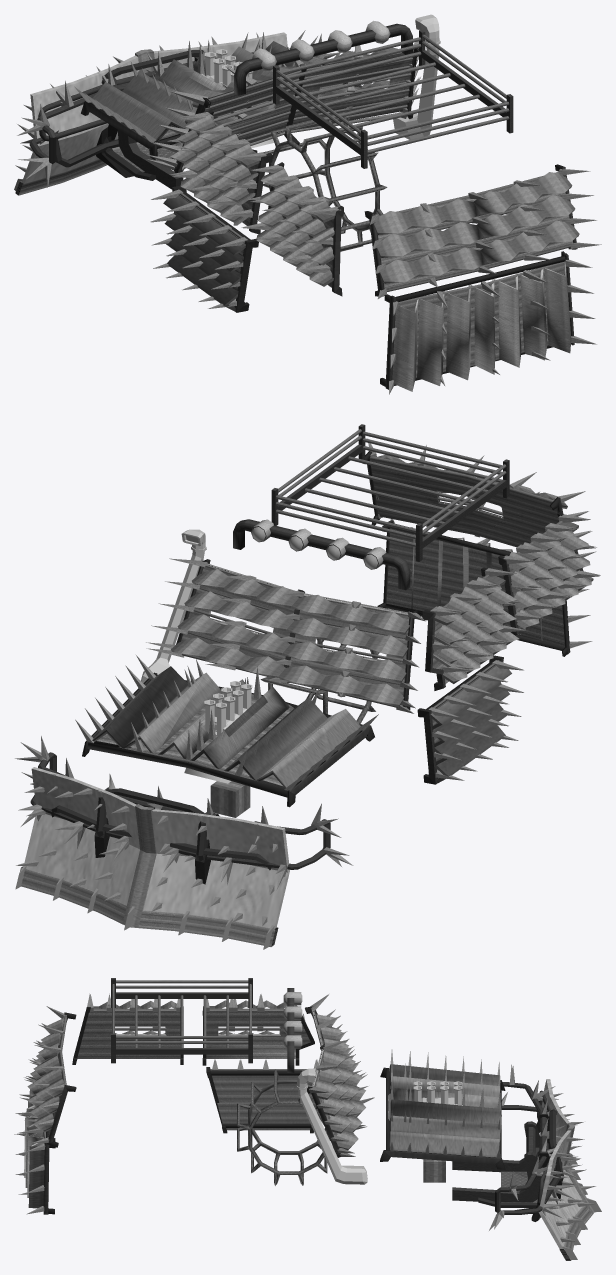
Rendered from OffRoadArmor.fbx.
The picture shows the model from 3 angles, top to bottom: view 1: azimuth 30°, elevation 25°; view 2: azimuth 150°, elevation 25°; view 3: azimuth 270°, elevation 25°; orthographic projection. The views are drawn at different scales.
Parts seen in each view (by area): view 1: trunkreinforcedrear, windowreinforcedrear, roofrack, plow, windowheavyfront, windowfrontreinforcedleft, windowrearreinforcedleft, doorfrontreinforcedleft, hoodreinforcedfront, windowlightfront, windowheavyrear, chaintires (+28 smaller); view 2: plow, windowreinforcedfront, plow_spiked, hoodreinforcedfront, roofrack, hoodreinforcedfrontscoop, windowheavyrear, trunkheavyspikedrear, windowheavyspikedfront, windowfrontreinforcedleft, doorfrontreinforcedleft, windowrearreinforcedleft (+25 smaller); view 3: hoodreinforcedfront, roofrack, hoodreinforcedfrontscoop, doorfrontheavyleft, windowrearheavyleft, windowreinforcedfront, plow, windowfrontheavyleft, chaintires, pushbar_small, windowreinforcedrear, pushbar_large_spiked (+21 smaller).
Part boxes in pixels (x1,y1,x2,y2): trunkreinforcedrear: (392, 256, 571, 391); windowreinforcedrear: (374, 172, 579, 283); roofrack: (273, 29, 513, 168); plow: (14, 32, 287, 195); windowheavyfront: (174, 48, 418, 173); windowfrontreinforcedleft: (170, 114, 259, 225); windowrearreinforcedleft: (256, 168, 334, 286); doorfrontreinforcedleft: (163, 189, 250, 311); hoodreinforcedfront: (91, 41, 361, 149); windowlightfront: (184, 50, 413, 168); windowheavyrear: (364, 164, 577, 296); chaintires: (263, 112, 387, 251); plow: (15, 767, 289, 949); windowreinforcedfront: (171, 569, 409, 707); plow_spiked: (16, 769, 287, 927); hoodreinforcedfront: (87, 666, 367, 797); roofrack: (271, 424, 509, 561); hoodreinforcedfrontscoop: (92, 667, 345, 788); windowheavyrear: (362, 451, 563, 547); trunkheavyspikedrear: (386, 519, 592, 648); windowheavyspikedfront: (146, 558, 425, 708); windowfrontreinforcedleft: (432, 576, 519, 683); doorfrontreinforcedleft: (426, 659, 511, 783); windowrearreinforcedleft: (508, 522, 593, 629); hoodreinforcedfront: (386, 1064, 501, 1157); roofrack: (111, 978, 252, 1063); hoodreinforcedfrontscoop: (390, 1065, 500, 1157); doorfrontheavyleft: (206, 1067, 317, 1133); windowrearheavyleft: (72, 1006, 183, 1064); windowreinforcedfront: (316, 1014, 365, 1150); plow: (537, 1079, 601, 1260); windowfrontheavyleft: (202, 1006, 314, 1065); chaintires: (237, 1069, 329, 1185); pushbar_small: (452, 1121, 540, 1202); windowreinforcedrear: (27, 1018, 64, 1132); pushbar_large_spiked: (489, 1064, 582, 1230).
Bounding box in the file's own units: 264 × 199 × 514.
